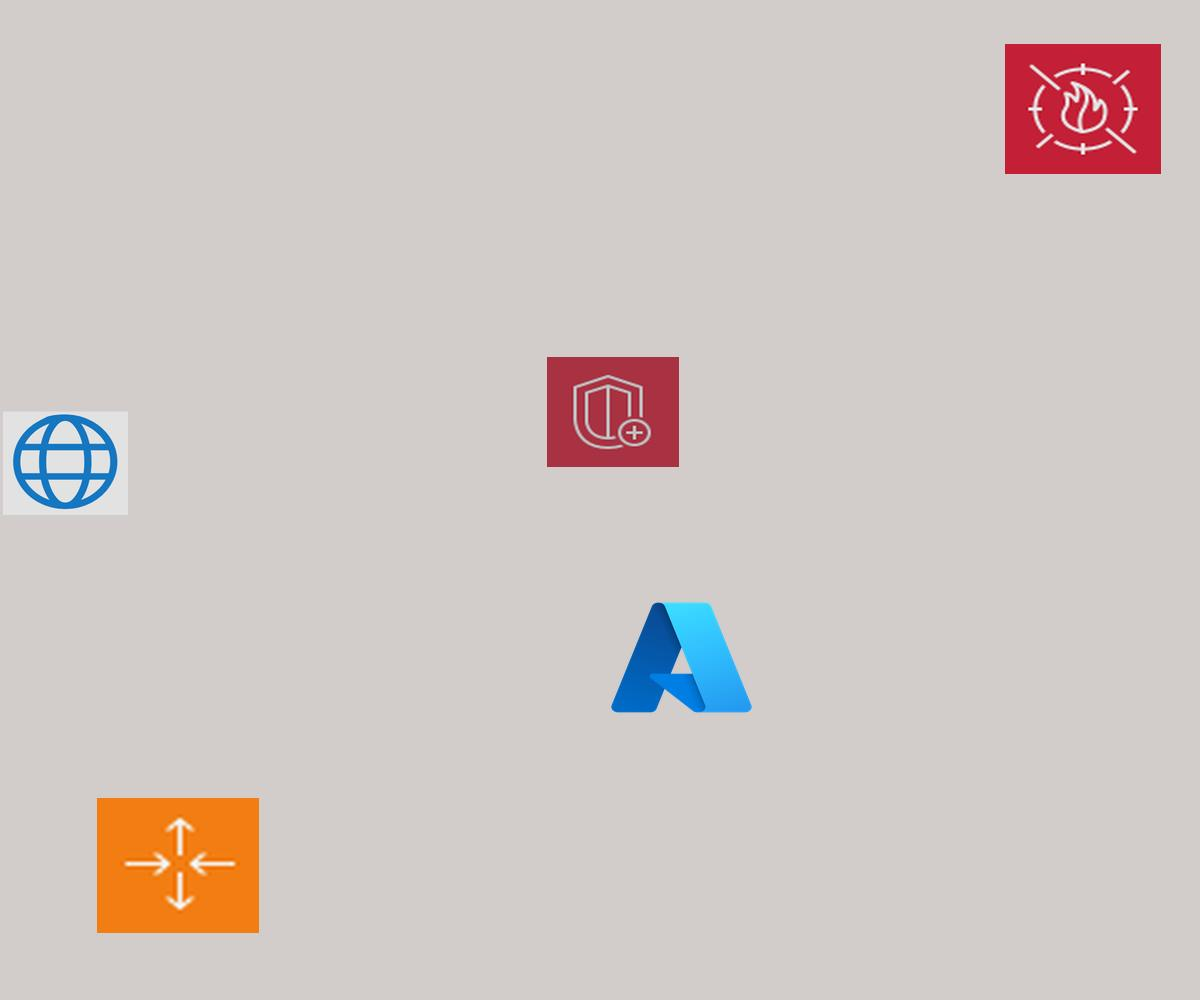AWS-Scaling-group: (97, 798, 259, 933)
AWS-Shield: (547, 357, 679, 467)
AWS-WAF: (1005, 44, 1161, 174)
Azure_http: (3, 411, 128, 515)
Azure_services: (605, 594, 758, 721)
